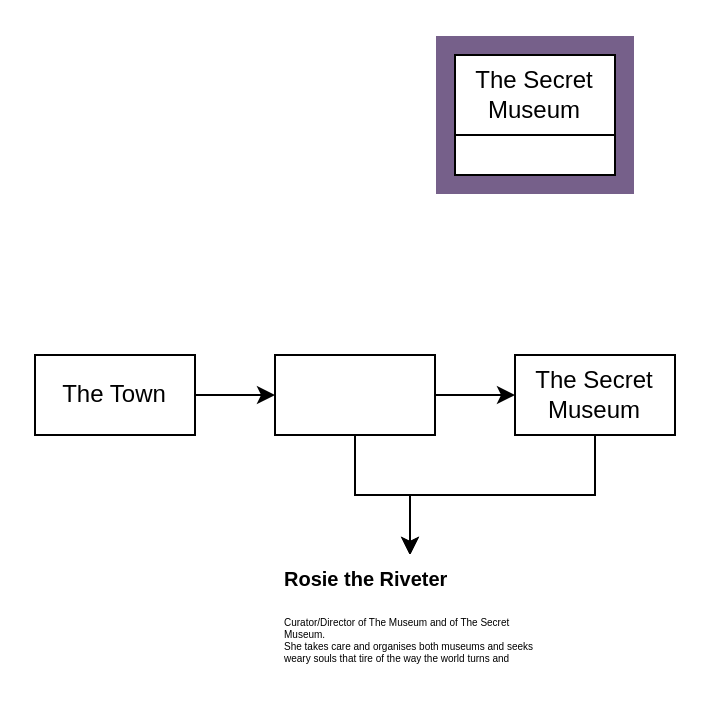
Image size: 710x708. Some labels were removed from this diagram. Here are the shapes that lost their labels. From the top down, the centre of each, then its label:
At point 534,154: "A tale of forgotten folktales".
At point 354,394: "The Museum".
